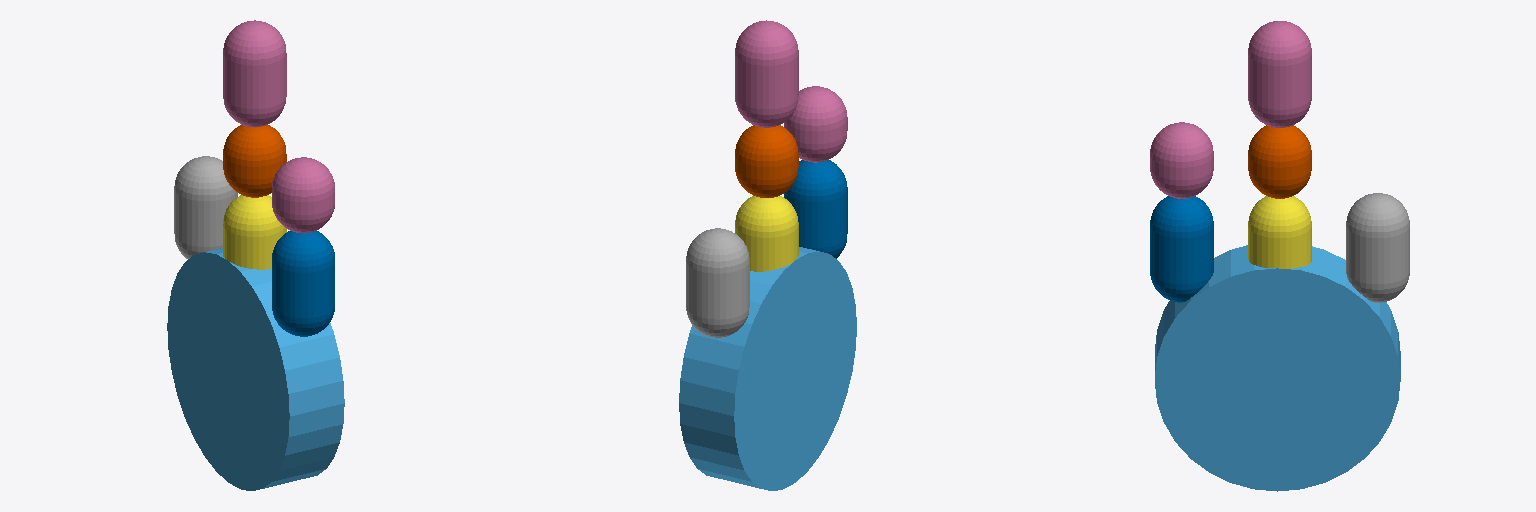
The robot description file, URDF, robot "DexterousHand":
<?xml version="1.0"?>
<robot name="DexterousHand">


    <link name="world"/>
    <joint name="world_to_palm" type="fixed">
        <parent link="world"/>
        <child link="palm"/>
        <origin xyz="0 0 0" rpy="0 0 0"/>
    </joint>
    <link name="palm">
        <inertial>
            <origin xyz="0 0 0.057" rpy="0 0 0"/>
            <mass value="0.30212892864"/>
            <inertia ixx="0.00049080844457568" ixy="0.0" ixz="0.0" iyy="0.00026746366246427523" iyz="0.0" izz="0.00026746366246427523"/>
        </inertial>
        <visual>
            <origin xyz="0 0 0.057" rpy="1.5708 0 1.5708"/>
            <geometry>
                <cylinder radius="0.057" length="0.0296"/>
            </geometry>
            <material name="default"/>
        </visual>
        <collision>
            <origin xyz="0 0 0.057" rpy="1.5708 0 1.5708"/>
            <geometry>
                <cylinder radius="0.057" length="0.0296"/>
            </geometry>
        </collision>
    </link>

    
    <joint name="thumb_joint1" type="revolute">
        <parent link="palm"/>
        <child link="thumb_base"/>
        <origin xyz="0.0 0.0 0.0" rpy="0.0 0.0 0.0"/>
        <axis xyz="1 0 0"/>
        <limit lower="0.0" upper="0.0" effort="1.0" velocity="1.0"/>
    </joint>

    <link name="thumb_base"></link>

    <joint name="thumb_joint2" type="revolute">
        <parent link="thumb_base"/>
        <child link="thumb_proximal"/>
        <origin xyz="0.0 0.0 0.0" rpy="0.0 0.0 0.0"/>
        <axis xyz="0 1 0"/>
        <limit lower="0.0" upper="0.0" effort="1.0" velocity="1.0"/>
    </joint>

    <link name="thumb_proximal">
    </link>

    <joint name="thumb_joint3" type="revolute">
        <parent link="thumb_proximal"/>
        <child link="thumb_knuckle"/>
        <origin xyz="0.0 0.0 0.0" rpy="0.0 0.0 0.0"/>
        <axis xyz="1 0 0"/>
        <limit lower="0.0" upper="0.0" effort="1.0" velocity="1.0"/>
    </joint>

    <link name="thumb_knuckle"></link>

    <joint name="thumb_joint4" type="revolute">
        <parent link="thumb_knuckle"/>
        <child link="thumb_middle"/>
        <origin xyz="0 0 0" rpy="0 0 0"/> 
        <axis xyz="0 1 0"/>
        <limit lower="0.0" upper="0.0" effort="1.0" velocity="1.0"/>
    </joint>

    <link name="thumb_middle">
    </link>

    <joint name="thumb_joint5" type="revolute">
        <parent link="thumb_middle"/>
        <child link="thumb_distal"/>
        <origin xyz="0 0 0" rpy="0 0 0"/> 
        <axis xyz="0 1 0"/>
        <limit lower="0.0" upper="0.0" effort="1.0" velocity="1.0"/>
    </joint>

    <link name="thumb_distal">
    </link>

    
    <joint name="index_joint1" type="revolute">
        <parent link="palm"/>
        <child link="index_proximal"/>
        <origin xyz="0.0 0.0465 0.091" rpy="0.0 0.0 0.0"/>
        <axis xyz="0 1 0"/>
        <limit lower="-0.314" upper="2.23" effort="1.0" velocity="1.0"/>
    </joint>

    <link name="index_proximal">
        <inertial>
            <origin xyz="0 0 0.02655" rpy="0 0 0"/>
            <mass value="0.036540024998400006"/>
            <inertia ixx="1.058665009272394e-05" ixy="0.0" ixz="0.0" 
            iyy="1.058665009272394e-05" iyz="0.0" izz="4.001863537824769e-06"/>
        </inertial>
        <visual>
            <origin xyz="0 0 0.02655" rpy="0 0 0"/>
            <geometry>
                <cylinder radius="0.0148" length="0.0235"/>
            </geometry>
            <material name="default"/>
        </visual>
        <visual>
            <origin xyz="0 0 0.0148" rpy="0 0 0"/>
            <geometry>
                <sphere radius="0.0148"/>
            </geometry>
            <material name="default"/>
        </visual>
        <visual>
            <origin xyz="0 0 0.0383" rpy="0 0 0"/>
            <geometry>
                <sphere radius="0.0148"/>
            </geometry>
            <material name="default"/>
        </visual>
        <collision>
            <origin xyz="0 0 0.02655" rpy="0 0 0"/>
            <geometry>
                <cylinder radius="0.0148" length="0.0235"/>
            </geometry>
        </collision>
        <collision>
            <origin xyz="0 0 0.0148" rpy="0 0 0"/>
            <geometry>
                <sphere radius="0.0148"/>
            </geometry>
        </collision>
        <collision>
            <origin xyz="0 0 0.0383" rpy="0 0 0"/>
            <geometry>
                <sphere radius="0.0148"/>
            </geometry>
        </collision>
    </link>

    <joint name="index_joint2" type="revolute">
        <parent link="index_proximal"/>
        <child link="index_dummy"/>
        <origin xyz="0.0 0.0 0.038" rpy="0.0 0.0 0.0"/>
        <axis xyz="0 1 0"/>
        <limit lower="0.0" upper="0.0" effort="1.0" velocity="1.0"/>
    </joint>

    <link name="index_dummy"></link>

    <joint name="index_joint3" type="revolute">
        <parent link="index_dummy"/>
        <child link="index_middle"/>
        <origin xyz="0 0 0.015100000000000002" rpy="0 0 0"/>
        <axis xyz="0 1 0"/>
        <limit lower="0.0" upper="0.0" effort="1.0" velocity="1.0"/>
    </joint>

    <link name="index_middle">
    </link>

    <joint name="index_joint4" type="revolute">
        <parent link="index_middle"/>
        <child link="index_distal"/>
        <origin xyz="0 0 0" rpy="0 0 0"/> 
        <axis xyz="0 1 0"/>
        <limit lower="0.0" upper="0.0" effort="1.0" velocity="1.0"/>
    </joint>

    <link name="index_distal">
    </link>

    
    <joint name="middle_joint1" type="revolute">
        <parent link="palm"/>
        <child link="middle_proximal"/>
        <origin xyz="0.0 0.0011 0.091" rpy="0.0 0.0 0.0"/>
        <axis xyz="0 1 0"/>
        <limit lower="-0.314" upper="2.23" effort="1.0" velocity="1.0"/>
    </joint>

    <link name="middle_proximal">
        <inertial>
            <origin xyz="0 0 0.02655" rpy="0 0 0"/>
            <mass value="0.036540024998400006"/>
            <inertia ixx="1.058665009272394e-05" ixy="0.0" ixz="0.0" 
            iyy="1.058665009272394e-05" iyz="0.0" izz="4.001863537824769e-06"/>
        </inertial>
        <visual>
            <origin xyz="0 0 0.02655" rpy="0 0 0"/>
            <geometry>
                <cylinder radius="0.0148" length="0.0235"/>
            </geometry>
            <material name="default"/>
        </visual>
        <visual>
            <origin xyz="0 0 0.0148" rpy="0 0 0"/>
            <geometry>
                <sphere radius="0.0148"/>
            </geometry>
            <material name="default"/>
        </visual>
        <visual>
            <origin xyz="0 0 0.0383" rpy="0 0 0"/>
            <geometry>
                <sphere radius="0.0148"/>
            </geometry>
            <material name="default"/>
        </visual>
        <collision>
            <origin xyz="0 0 0.02655" rpy="0 0 0"/>
            <geometry>
                <cylinder radius="0.0148" length="0.0235"/>
            </geometry>
        </collision>
        <collision>
            <origin xyz="0 0 0.0148" rpy="0 0 0"/>
            <geometry>
                <sphere radius="0.0148"/>
            </geometry>
        </collision>
        <collision>
            <origin xyz="0 0 0.0383" rpy="0 0 0"/>
            <geometry>
                <sphere radius="0.0148"/>
            </geometry>
        </collision>
    </link>

    <joint name="middle_joint2" type="revolute">
        <parent link="middle_proximal"/>
        <child link="middle_dummy"/>
        <origin xyz="0.0 0.0 0.038" rpy="0.0 0.0 0.0"/>
        <axis xyz="1 0 0"/>
        <limit lower="-1.047" upper="1.047" effort="1.0" velocity="1.0"/>
    </joint>

    <link name="middle_dummy"></link>

    <joint name="middle_joint3" type="revolute">
        <parent link="middle_dummy"/>
        <child link="middle_middle"/>
        <origin xyz="0 0 0.015100000000000002" rpy="0 0 0"/>
        <axis xyz="0 1 0"/>
        <limit lower="-0.506" upper="1.885" effort="1.0" velocity="1.0"/>
    </joint>

    <link name="middle_middle">
        <inertial>
            <origin xyz="0 0 0.01805" rpy="0 0 0"/>
            <mass value="0.0248417119104"/>
            <inertia ixx="4.058162759109537e-06" ixy="0.0" ixz="0.0" 
            iyy="4.058162759109537e-06" iyz="0.0" izz="2.7206642884270085e-06"/>
        </inertial>
        <visual>
            <origin xyz="0 0 0.01805" rpy="0 0 0"/>
            <geometry>
                <cylinder radius="0.0148" length="0.006499999999999999"/>
            </geometry>
            <material name="default"/>
        </visual>
        <visual>
            <origin xyz="0 0 0.0148" rpy="0 0 0"/>
            <geometry>
                <sphere radius="0.0148"/>
            </geometry>
            <material name="default"/>
        </visual>
        <visual>
            <origin xyz="0 0 0.0213" rpy="0 0 0"/>
            <geometry>
                <sphere radius="0.0148"/>
            </geometry>
            <material name="default"/>
        </visual>
        <collision>
            <origin xyz="0 0 0.01805" rpy="0 0 0"/>
            <geometry>
                <cylinder radius="0.0148" length="0.006499999999999999"/>
            </geometry>
        </collision>
        <collision>
            <origin xyz="0 0 0.0148" rpy="0 0 0"/>
            <geometry>
                <sphere radius="0.0148"/>
            </geometry>
        </collision>
        <collision>
            <origin xyz="0 0 0.0213" rpy="0 0 0"/>
            <geometry>
                <sphere radius="0.0148"/>
            </geometry>
        </collision>
    </link>

    <joint name="middle_joint4" type="revolute">
        <parent link="middle_middle"/>
        <child link="middle_distal"/>
        <origin xyz="0 0 0.0361" rpy="0 0 0"/> 
        <axis xyz="0 1 0"/>
        <limit lower="-0.366" upper="2.042" effort="1.0" velocity="1.0"/>
    </joint>

    <link name="middle_distal">
        <inertial>
            <origin xyz="0 0 0.026" rpy="0 0 0"/>
            <mass value="0.035783075328"/>
            <inertia ixx="1.002260084553728e-05" ixy="0.0" ixz="0.0" 
            iyy="1.002260084553728e-05" iyz="0.0" izz="3.91896240992256e-06"/>
        </inertial>
        <visual>
            <origin xyz="0 0 0.026" rpy="0 0 0"/>
            <geometry>
                <cylinder radius="0.0148" length="0.022399999999999996"/>
            </geometry>
            <material name="default"/>
        </visual>
        <visual>
            <origin xyz="0 0 0.0148" rpy="0 0 0"/>
            <geometry>
                <sphere radius="0.0148"/>
            </geometry>
            <material name="default"/>
        </visual>
        <visual>
            <origin xyz="0 0 0.0372" rpy="0 0 0"/>
            <geometry>
                <sphere radius="0.0148"/>
            </geometry>
            <material name="default"/>
        </visual>
        <collision>
            <origin xyz="0 0 0.026" rpy="0 0 0"/>
            <geometry>
                <cylinder radius="0.0148" length="0.022399999999999996"/>
            </geometry>
        </collision>
        <collision>
            <origin xyz="0 0 0.0148" rpy="0 0 0"/>
            <geometry>
                <sphere radius="0.0148"/>
            </geometry>
        </collision>
        <collision>
            <origin xyz="0 0 0.0372" rpy="0 0 0"/>
            <geometry>
                <sphere radius="0.0148"/>
            </geometry>
        </collision>
    </link>

    
    <joint name="ring_joint1" type="revolute">
        <parent link="palm"/>
        <child link="ring_proximal"/>
        <origin xyz="0.0 0.0 0.0" rpy="0.0 0.0 0.0"/>
        <axis xyz="1 0 0"/>
        <limit lower="0.0" upper="0.0" effort="1.0" velocity="1.0"/>
    </joint>

    <link name="ring_proximal">
    </link>

    <joint name="ring_joint2" type="revolute">
        <parent link="ring_proximal"/>
        <child link="ring_dummy"/>
        <origin xyz="0.0 0.0 0.0" rpy="0.0 0.0 0.0"/>
        <axis xyz="0 1 0"/>
        <limit lower="0.0" upper="0.0" effort="1.0" velocity="1.0"/>
    </joint>

    <link name="ring_dummy"></link>

    <joint name="ring_joint3" type="revolute">
        <parent link="ring_dummy"/>
        <child link="ring_middle"/>
        <origin xyz="0 0 0" rpy="0 0 0"/>
        <axis xyz="0 1 0"/>
        <limit lower="0.0" upper="0.0" effort="1.0" velocity="1.0"/>
    </joint>

    <link name="ring_middle">
    </link>

    <joint name="ring_joint4" type="revolute">
        <parent link="ring_middle"/>
        <child link="ring_distal"/>
        <origin xyz="0 0 0" rpy="0 0 0"/> 
        <axis xyz="0 1 0"/>
        <limit lower="0.0" upper="0.0" effort="1.0" velocity="1.0"/>
    </joint>

    <link name="ring_distal">
    </link>

    
    <joint name="little_joint0" type="revolute">
        <parent link="palm"/>
        <child link="little_base"/>
        <origin xyz="0.0 0.0 0.0" rpy="0.0 0.0 0.0"/>
        <axis xyz="0 1 0"/>
        <limit lower="0.0" upper="0.0" effort="1.0" velocity="1.0"/>
    </joint>

    <link name="little_base"></link>

    <joint name="little_joint1" type="revolute">
        <parent link="little_base"/>
        <child link="little_proximal"/>
        <origin xyz="0.0 -0.0443 0.091" rpy="-0.0 -0.0 -0.0"/>
        <axis xyz="0 1 0"/>
        <limit lower="-0.314" upper="2.23" effort="1.0" velocity="1.0"/>
    </joint>

    <link name="little_proximal">
        <inertial>
            <origin xyz="0 0 0.02655" rpy="0 0 0"/>
            <mass value="0.036540024998400006"/>
            <inertia ixx="1.058665009272394e-05" ixy="0.0" ixz="0.0" 
            iyy="1.058665009272394e-05" iyz="0.0" izz="4.001863537824769e-06"/>
        </inertial>
        <visual>
            <origin xyz="0 0 0.02655" rpy="0 0 0"/>
            <geometry>
                <cylinder radius="0.0148" length="0.0235"/>
            </geometry>
            <material name="default"/>
        </visual>
        <visual>
            <origin xyz="0 0 0.0148" rpy="0 0 0"/>
            <geometry>
                <sphere radius="0.0148"/>
            </geometry>
            <material name="default"/>
        </visual>
        <visual>
            <origin xyz="0 0 0.0383" rpy="0 0 0"/>
            <geometry>
                <sphere radius="0.0148"/>
            </geometry>
            <material name="default"/>
        </visual>
        <collision>
            <origin xyz="0 0 0.02655" rpy="0 0 0"/>
            <geometry>
                <cylinder radius="0.0148" length="0.0235"/>
            </geometry>
        </collision>
        <collision>
            <origin xyz="0 0 0.0148" rpy="0 0 0"/>
            <geometry>
                <sphere radius="0.0148"/>
            </geometry>
        </collision>
        <collision>
            <origin xyz="0 0 0.0383" rpy="0 0 0"/>
            <geometry>
                <sphere radius="0.0148"/>
            </geometry>
        </collision>
    </link>

    <joint name="little_joint2" type="revolute">
        <parent link="little_proximal"/>
        <child link="little_dummy"/>
        <origin xyz="0.0 0.0 0.038" rpy="0.0 0.0 0.0"/>
        <axis xyz="1 0 0"/>
        <limit lower="-1.047" upper="1.047" effort="1.0" velocity="1.0"/>
    </joint>

    <link name="little_dummy"></link>

    <joint name="little_joint3" type="revolute">
        <parent link="little_dummy"/>
        <child link="little_middle"/>
        <origin xyz="0 0 0.015100000000000002" rpy="0 0 0"/>
        <axis xyz="0 1 0"/>
        <limit lower="-0.506" upper="1.885" effort="1.0" velocity="1.0"/>
    </joint>

    <link name="little_middle">
        <inertial>
            <origin xyz="0 0 0.01805" rpy="0 0 0"/>
            <mass value="0.0248417119104"/>
            <inertia ixx="4.058162759109537e-06" ixy="0.0" ixz="0.0" 
            iyy="4.058162759109537e-06" iyz="0.0" izz="2.7206642884270085e-06"/>
        </inertial>
        <visual>
            <origin xyz="0 0 0.01805" rpy="0 0 0"/>
            <geometry>
                <cylinder radius="0.0148" length="0.006499999999999999"/>
            </geometry>
            <material name="default"/>
        </visual>
        <visual>
            <origin xyz="0 0 0.0148" rpy="0 0 0"/>
            <geometry>
                <sphere radius="0.0148"/>
            </geometry>
            <material name="default"/>
        </visual>
        <visual>
            <origin xyz="0 0 0.0213" rpy="0 0 0"/>
            <geometry>
                <sphere radius="0.0148"/>
            </geometry>
            <material name="default"/>
        </visual>
        <collision>
            <origin xyz="0 0 0.01805" rpy="0 0 0"/>
            <geometry>
                <cylinder radius="0.0148" length="0.006499999999999999"/>
            </geometry>
        </collision>
        <collision>
            <origin xyz="0 0 0.0148" rpy="0 0 0"/>
            <geometry>
                <sphere radius="0.0148"/>
            </geometry>
        </collision>
        <collision>
            <origin xyz="0 0 0.0213" rpy="0 0 0"/>
            <geometry>
                <sphere radius="0.0148"/>
            </geometry>
        </collision>
    </link>

    <joint name="little_joint4" type="revolute">
        <parent link="little_middle"/>
        <child link="little_distal"/>
        <origin xyz="0 0 0.0361" rpy="0 0 0"/>
        <axis xyz="0 1 0"/>
        <limit lower="0.0" upper="0.0" effort="1.0" velocity="1.0"/>
    </joint>

    <link name="little_distal">
    </link>

</robot>

--- What the picture shows (computed from the rendered views, not written in the file) ---
3 views of the same robot in one strip: view 1: azimuth 30°, elevation 25°; view 2: azimuth 150°, elevation 25°; view 3: azimuth 270°, elevation 25° (orthographic).
Model DexterousHand with 24 links and 23 joints (22 revolute, 1 fixed), rooted at world, posed all joints at 0.
Links seen in each view (by area): view 1: palm, middle_distal, little_proximal, index_proximal, little_middle, middle_middle, middle_proximal; view 2: palm, index_proximal, middle_distal, little_proximal, middle_proximal, middle_middle, little_middle; view 3: palm, index_proximal, middle_distal, little_proximal, middle_proximal, little_middle, middle_middle.
Link boxes in pixels (x1,y1,x2,y2): palm: [167, 248, 344, 490]; middle_distal: [223, 20, 286, 127]; little_proximal: [272, 231, 334, 336]; index_proximal: [174, 156, 237, 258]; little_middle: [272, 157, 334, 232]; middle_middle: [223, 125, 286, 197]; middle_proximal: [223, 195, 286, 269]; palm: [679, 247, 856, 490]; index_proximal: [686, 228, 749, 337]; middle_distal: [735, 20, 798, 127]; little_proximal: [784, 160, 847, 258]; middle_proximal: [735, 196, 798, 271]; middle_middle: [735, 125, 798, 197]; little_middle: [784, 86, 847, 162]; palm: [1155, 245, 1400, 491]; index_proximal: [1346, 193, 1409, 302]; middle_distal: [1248, 21, 1311, 127]; little_proximal: [1150, 196, 1213, 302]; middle_proximal: [1248, 196, 1311, 268]; little_middle: [1150, 122, 1213, 198]; middle_middle: [1248, 125, 1311, 198].
Size in the robot's own frame: 0.0296 by 0.1204 by 0.2322 metres.
Geometry: primitives only (box / cylinder / sphere), no mesh files.
